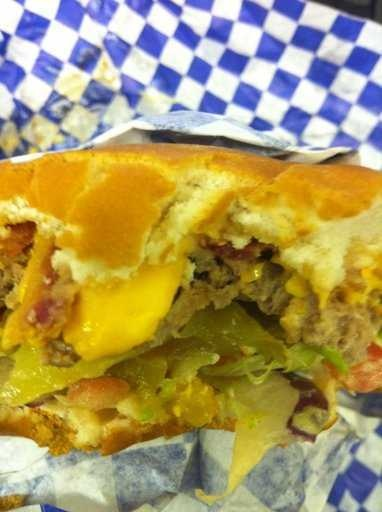hamburger: (1, 130, 379, 466)
